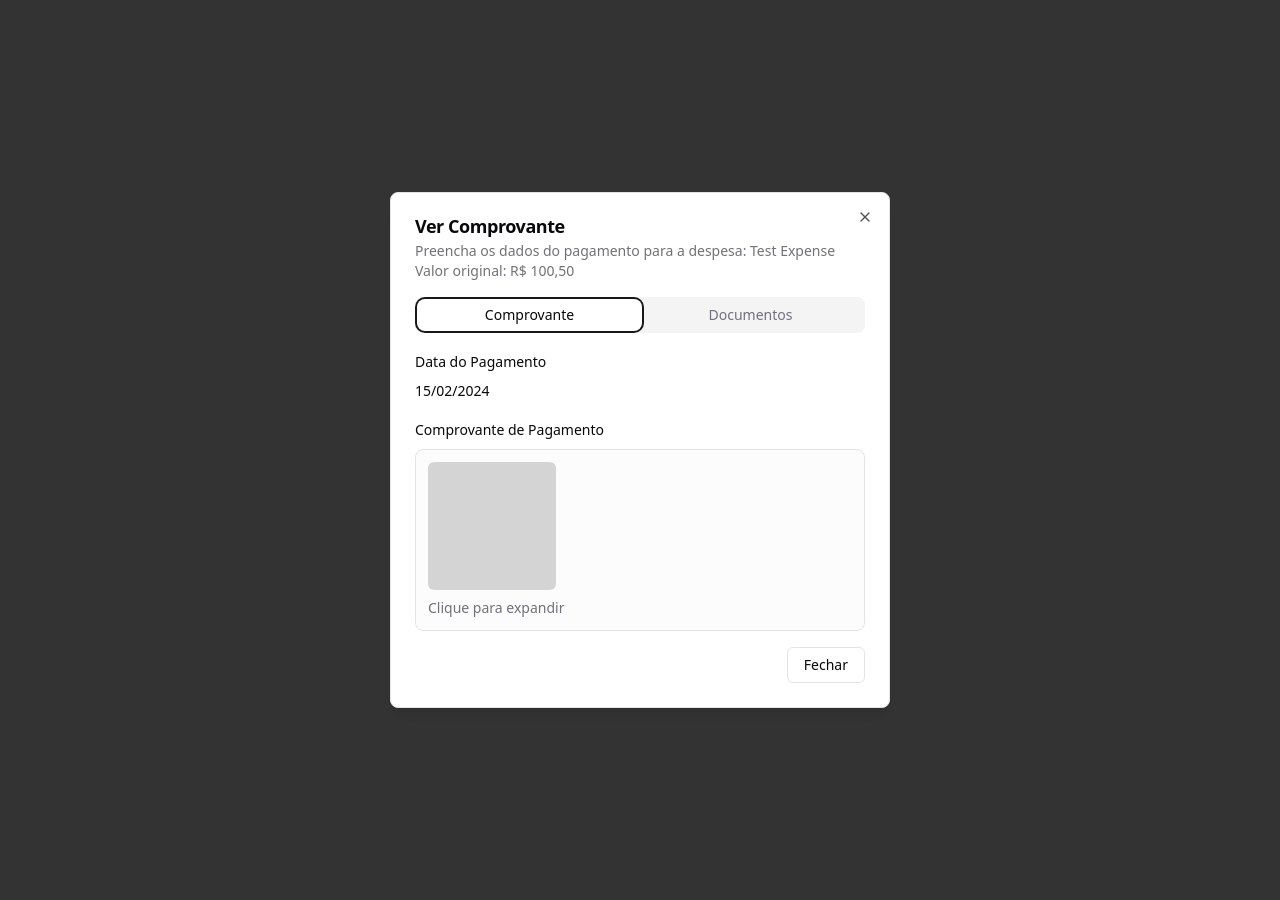
Test case: PaymentModal › View mode for PAID expense › lightbox opens on image click
Click the element with test id "image-container". click: (496,540)
box: [428,462,564,617]
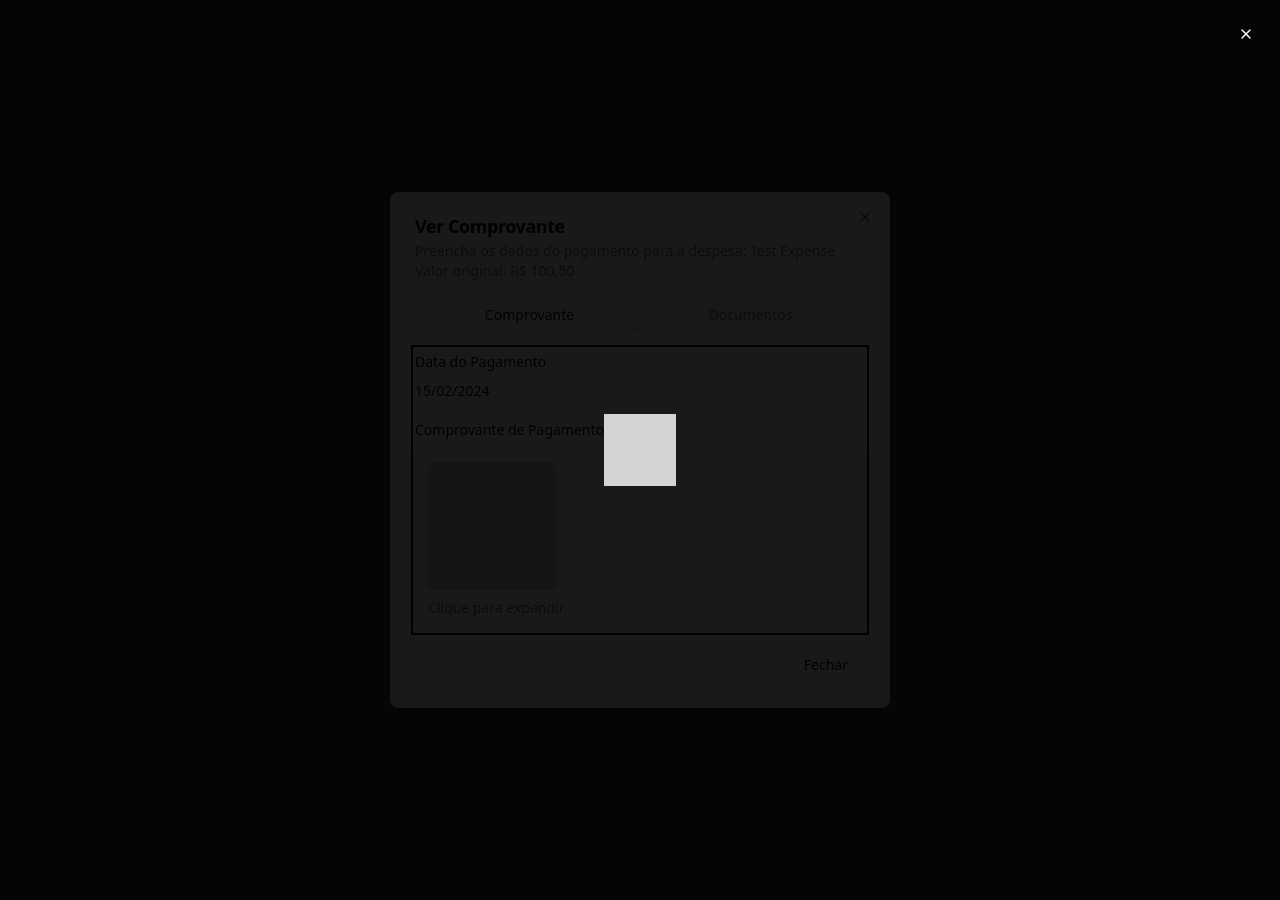
expect the element with test id "viewer-overlay" is shown: met
